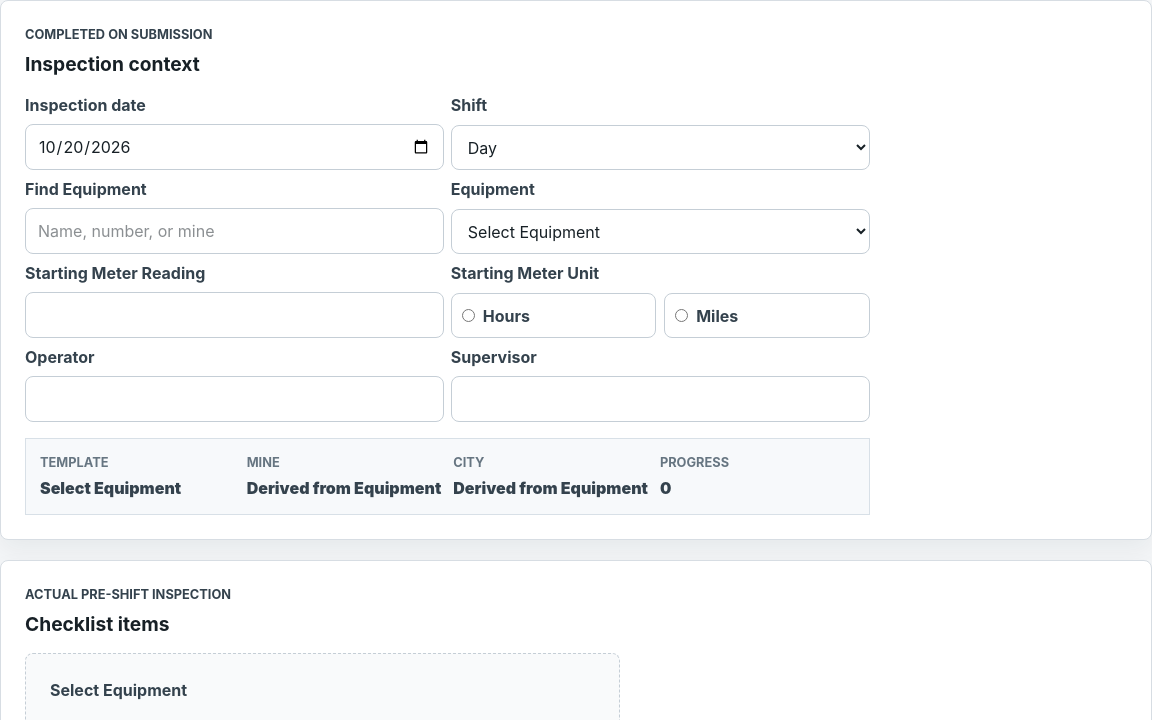
Test case: OperationalSafetyChecklistForm › switches to the canonical Mobile template and derives Mine and City
This screenshot has width=1152, height=720.
Select "Truck 1 #WT-1 (Mine A)" in the dropdown labelled "Equipment" at (660,232), box [451,209,870,254]
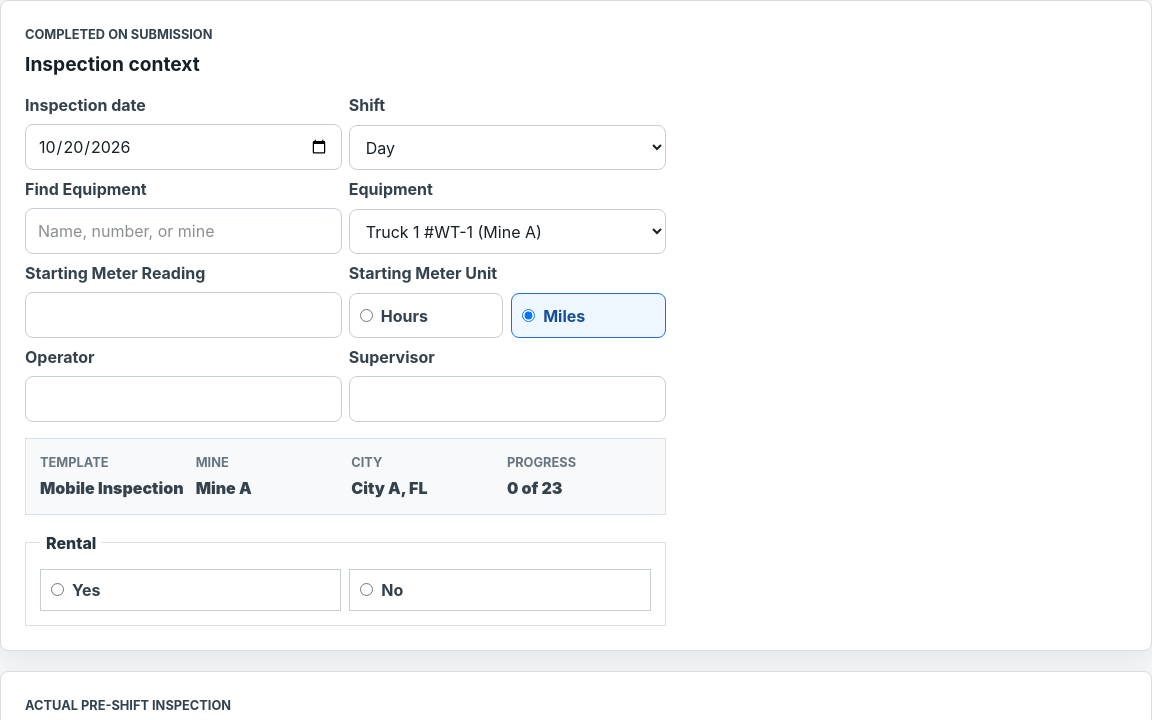
Check: the text "Rental" is shown, box [46,533,96,553]
Check: the text "Mine A" is shown, box [196,478,252,498]
Check: the text "City A, FL" is shown, box [351,478,428,498]
